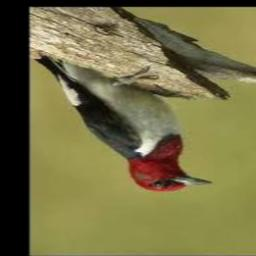Woodpecker: (35, 55, 213, 192)
